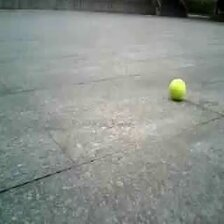tennis: (169, 79, 186, 100)
